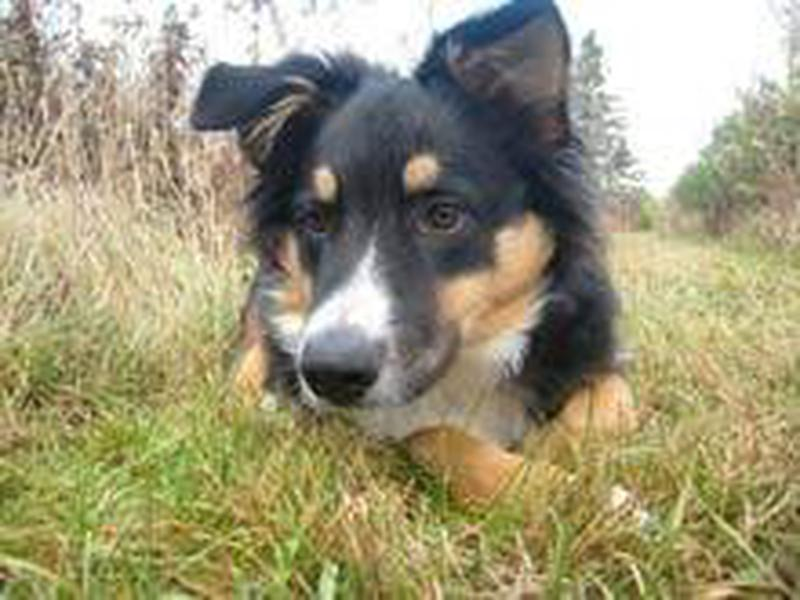dog_down: (195, 3, 648, 547)
